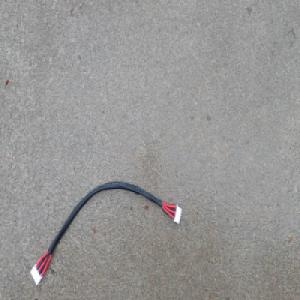Wire: (28, 180, 183, 287)
